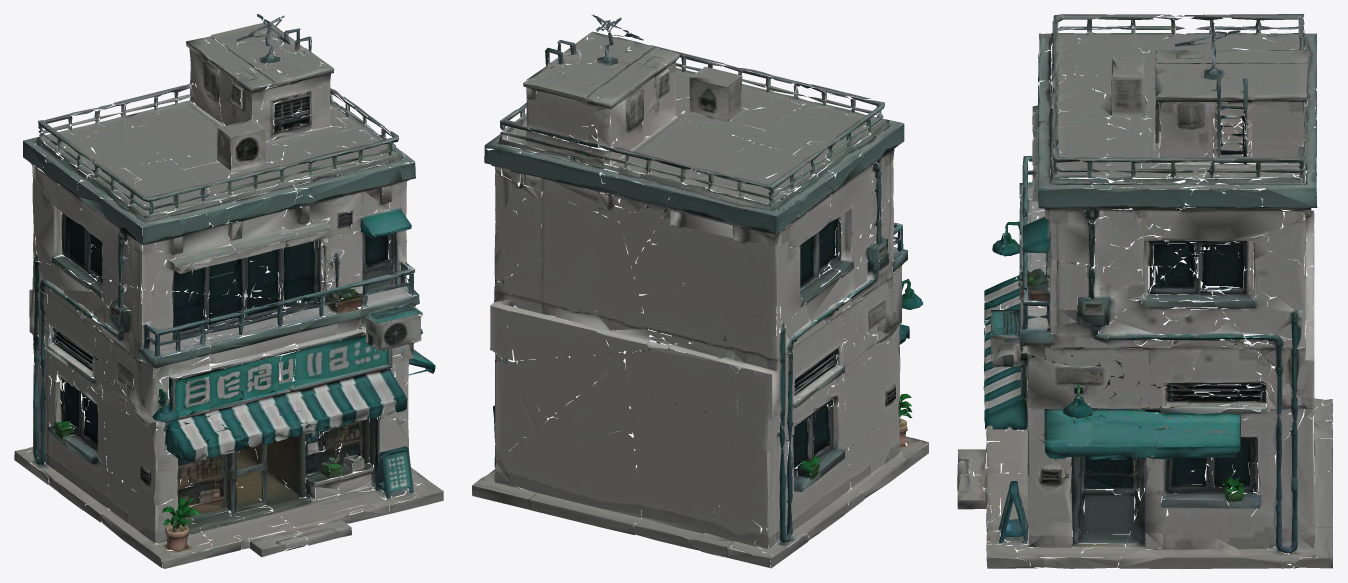
File: building2.glb
3 renders of one model, left to right at view 1: azimuth 30°, elevation 25°; view 2: azimuth 150°, elevation 25°; view 3: azimuth 270°, elevation 25°, orthographic. The views are drawn at different scales.
Visible parts, largest first — view 1: tripo_node_efe3d26b-ee9c-4946-b01d-ab6f0fcda787; view 2: tripo_node_efe3d26b-ee9c-4946-b01d-ab6f0fcda787; view 3: tripo_node_efe3d26b-ee9c-4946-b01d-ab6f0fcda787.
Boxes of the visible parts, box(x1,y1,x2,y2) form: tripo_node_efe3d26b-ee9c-4946-b01d-ab6f0fcda787: box(14, 14, 443, 568); tripo_node_efe3d26b-ee9c-4946-b01d-ab6f0fcda787: box(472, 14, 928, 568); tripo_node_efe3d26b-ee9c-4946-b01d-ab6f0fcda787: box(957, 14, 1332, 568).
Bounding box in the file's own units: 0.7172 × 0.9773 × 0.6676.
1 material, 1 textured.
